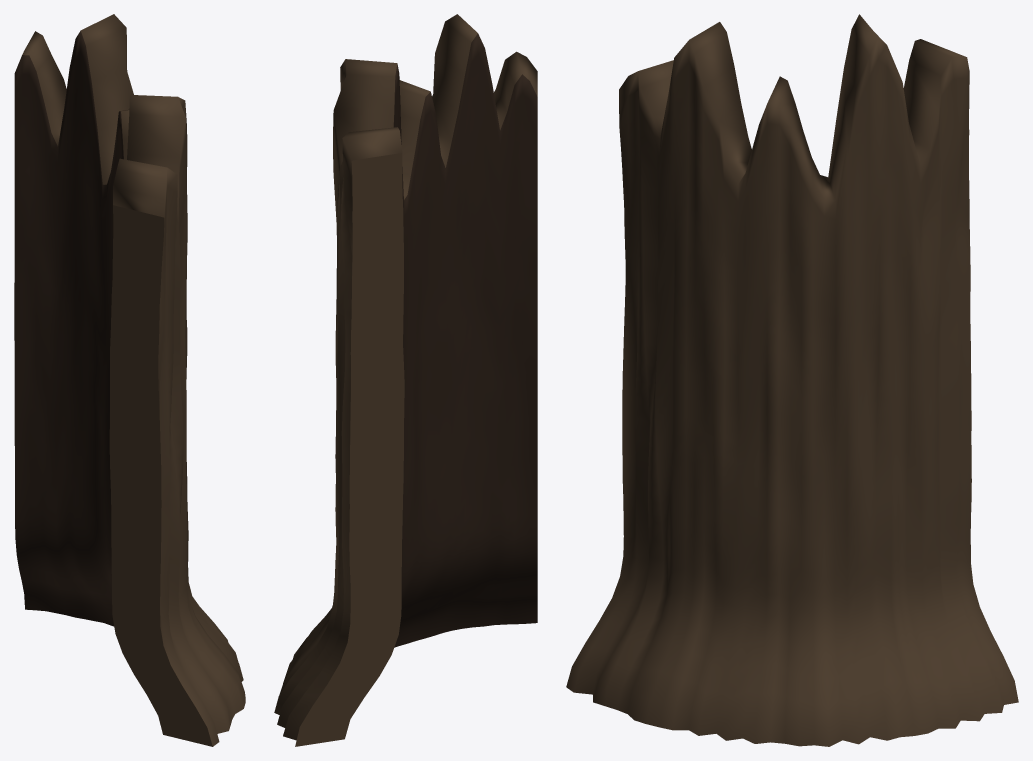
File: trunk_front_l.glb
3 renders of one model, left to right at view 1: azimuth 30°, elevation 25°; view 2: azimuth 150°, elevation 25°; view 3: azimuth 270°, elevation 25°, orthographic. The views are drawn at different scales.
Parts seen in each view (by area): view 1: Shell; view 2: Shell; view 3: Shell.
Boxes of the visible parts, left/top/right/bottom form: Shell: left=14, top=14, right=245, bottom=746; Shell: left=274, top=14, right=537, bottom=746; Shell: left=566, top=14, right=1018, bottom=746.
Bounding box in the file's own units: 1.76 × 6.34 × 3.86.
